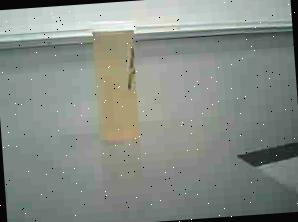Bottle A: (92, 21, 138, 142)
